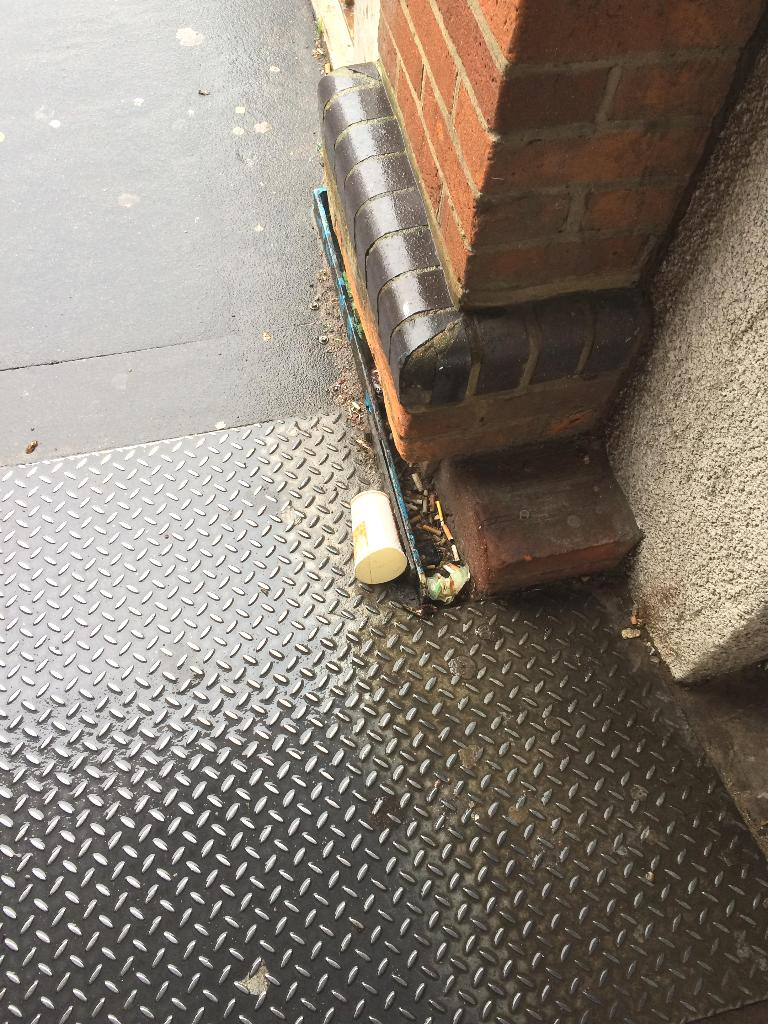garbage: (339, 478, 419, 597), (351, 491, 407, 584)
